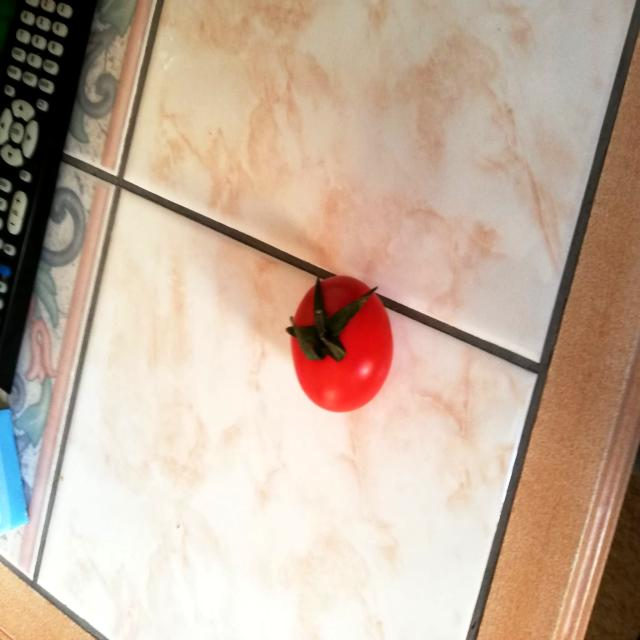tomato: (281, 258, 398, 418)
